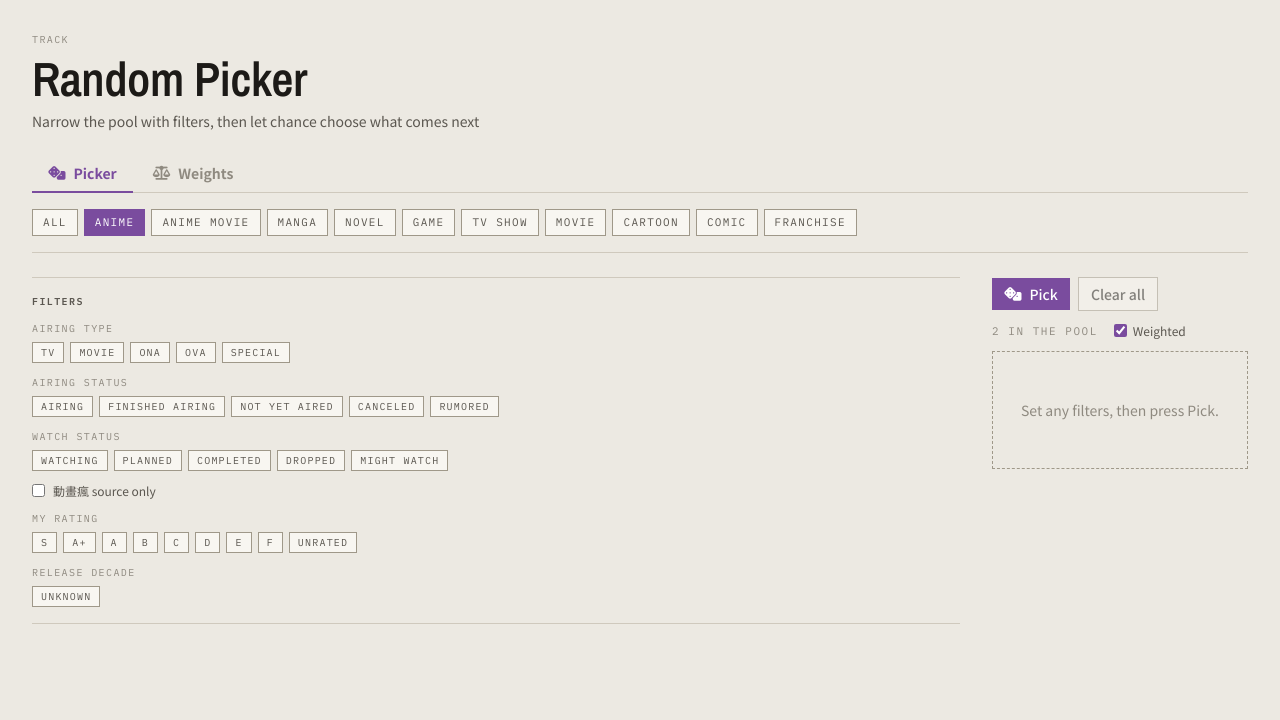
Test: offers a type's own library filters in its mode
Expected: the text "2 in the pool" is shown, [992,322,1098,339]
Click the button "Special". click: (256, 352)
box: [222,342,290,362]
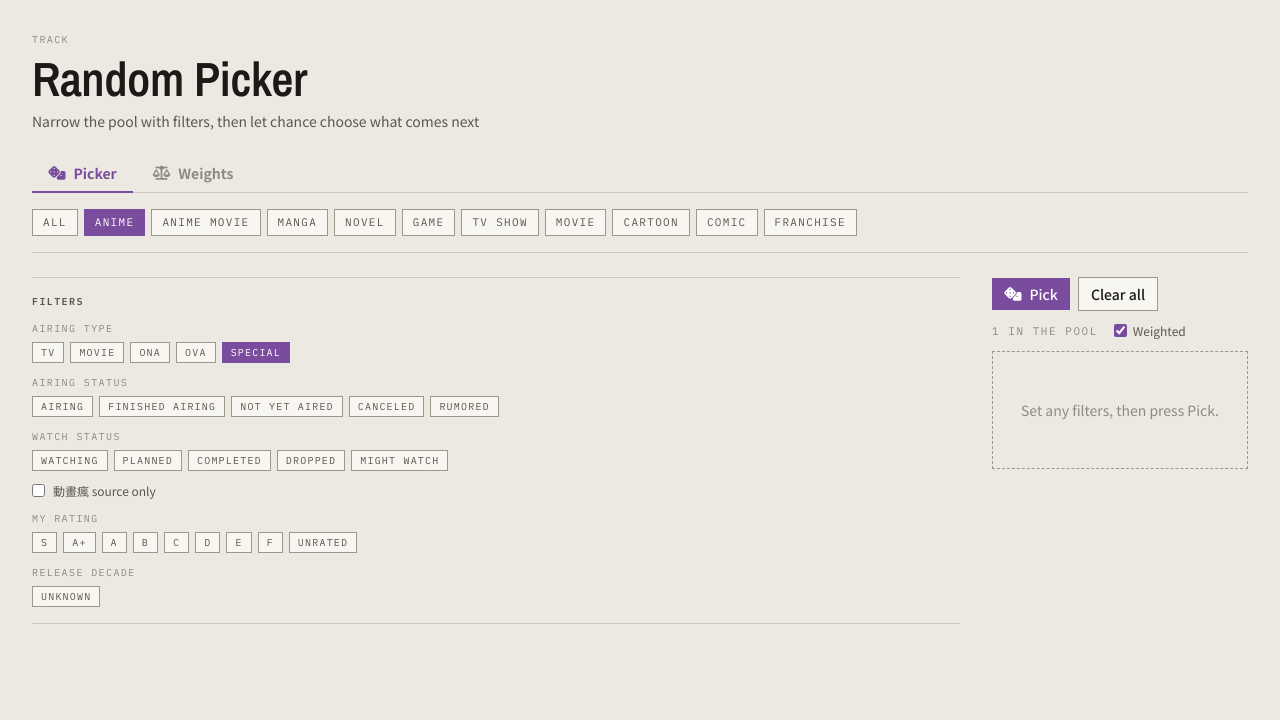
Now the text "1 in the pool" is shown, box [992,322,1098,339]
Click the button "Pick". click: (1031, 294)
box: [992,278,1070,310]
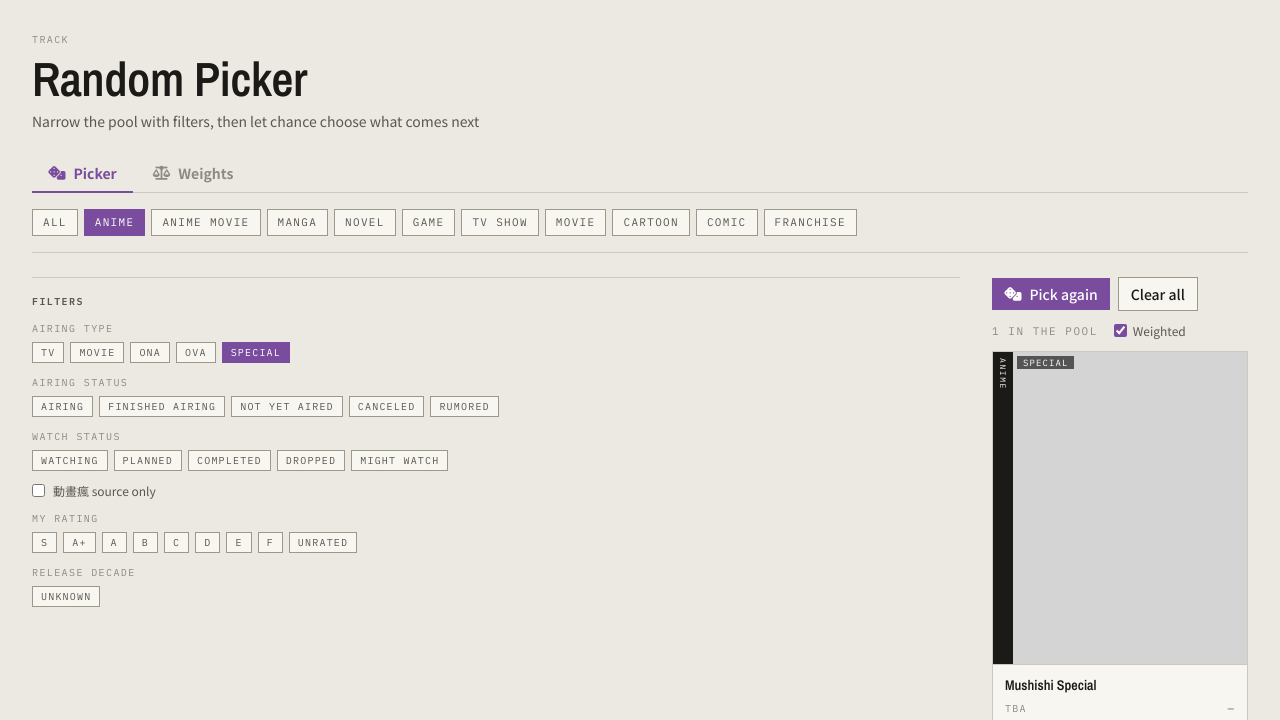
Now the link "Mushishi Special" is shown, box [1005,677,1096,694]
